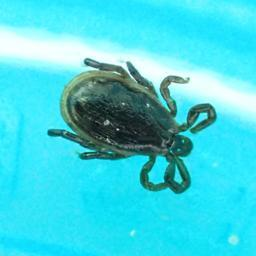Ixodes scapularis: (84, 34, 241, 155)
